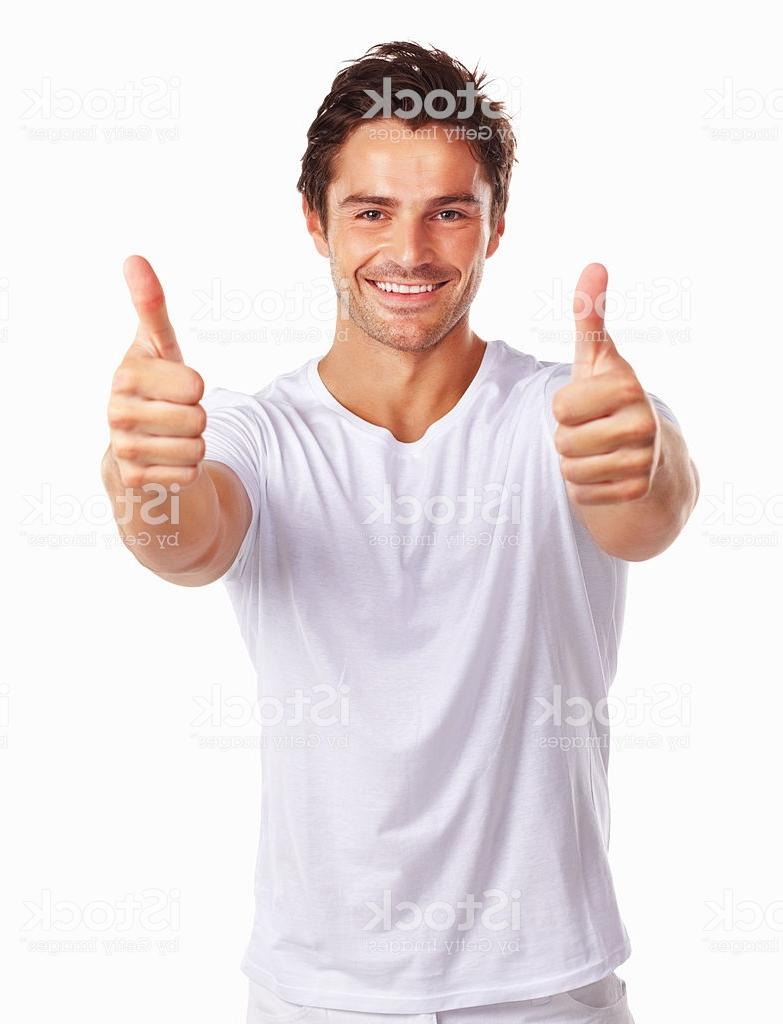thumbsup: (552, 261, 658, 508), (107, 253, 207, 490)
